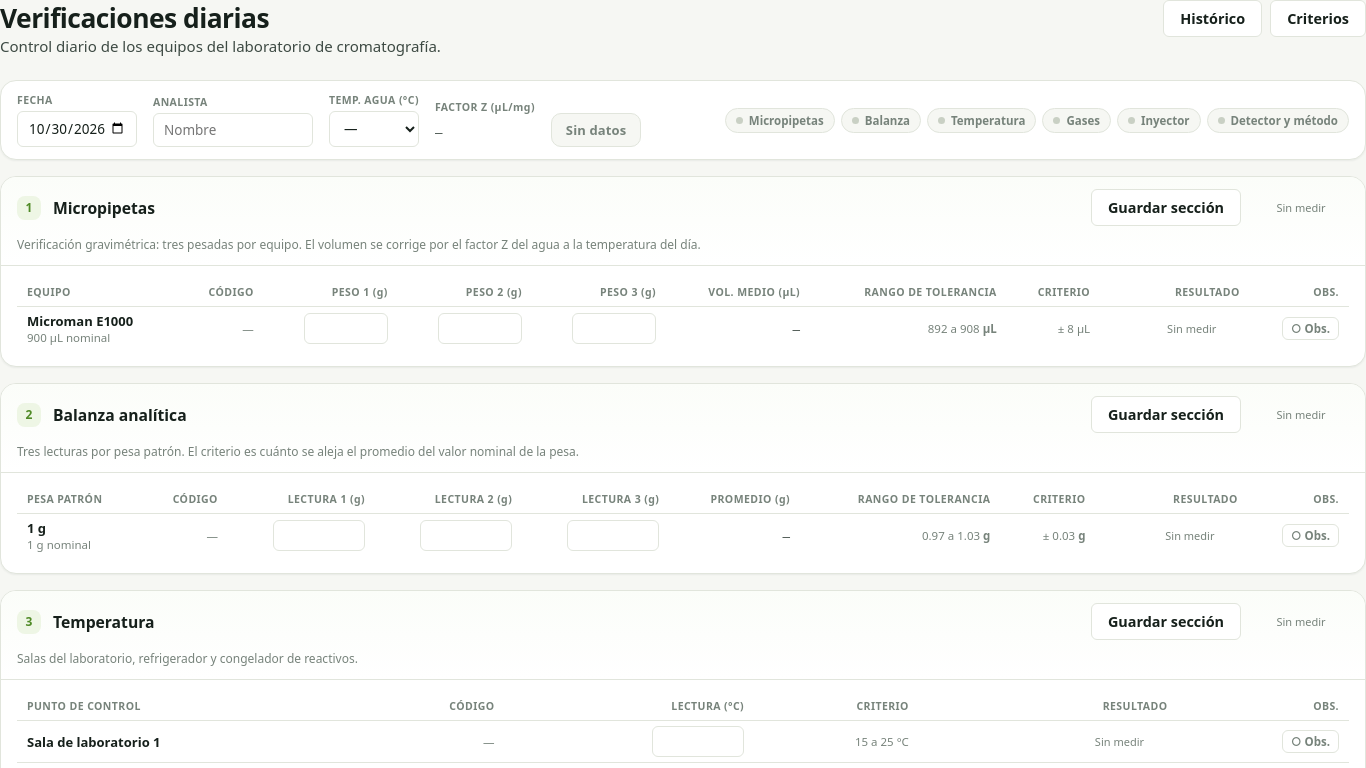
Test case: VerificacionesView › no deja guardar hasta que hay algo que guardar
Expected: the text "Microman E1000" is shown, x1=27 y1=312 x2=133 y2=330
Select "20 °C" in the dropdown labelled "Temp. agua (°C)". click: coordinates (374, 129)
box: x1=329 y1=111 x2=419 y2=147
(page scrolled)
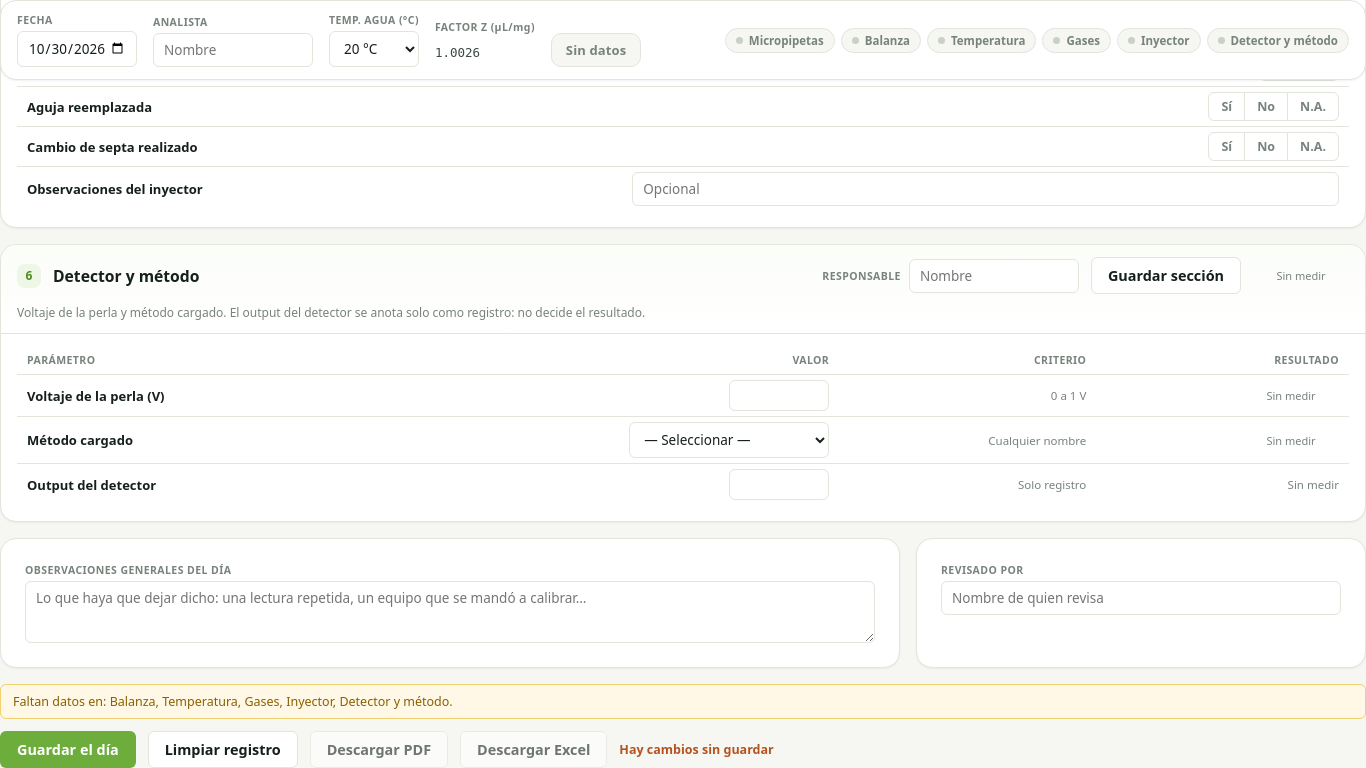
Expected: the button "Guardar el día" is enabled, x1=0 y1=731 x2=136 y2=767
